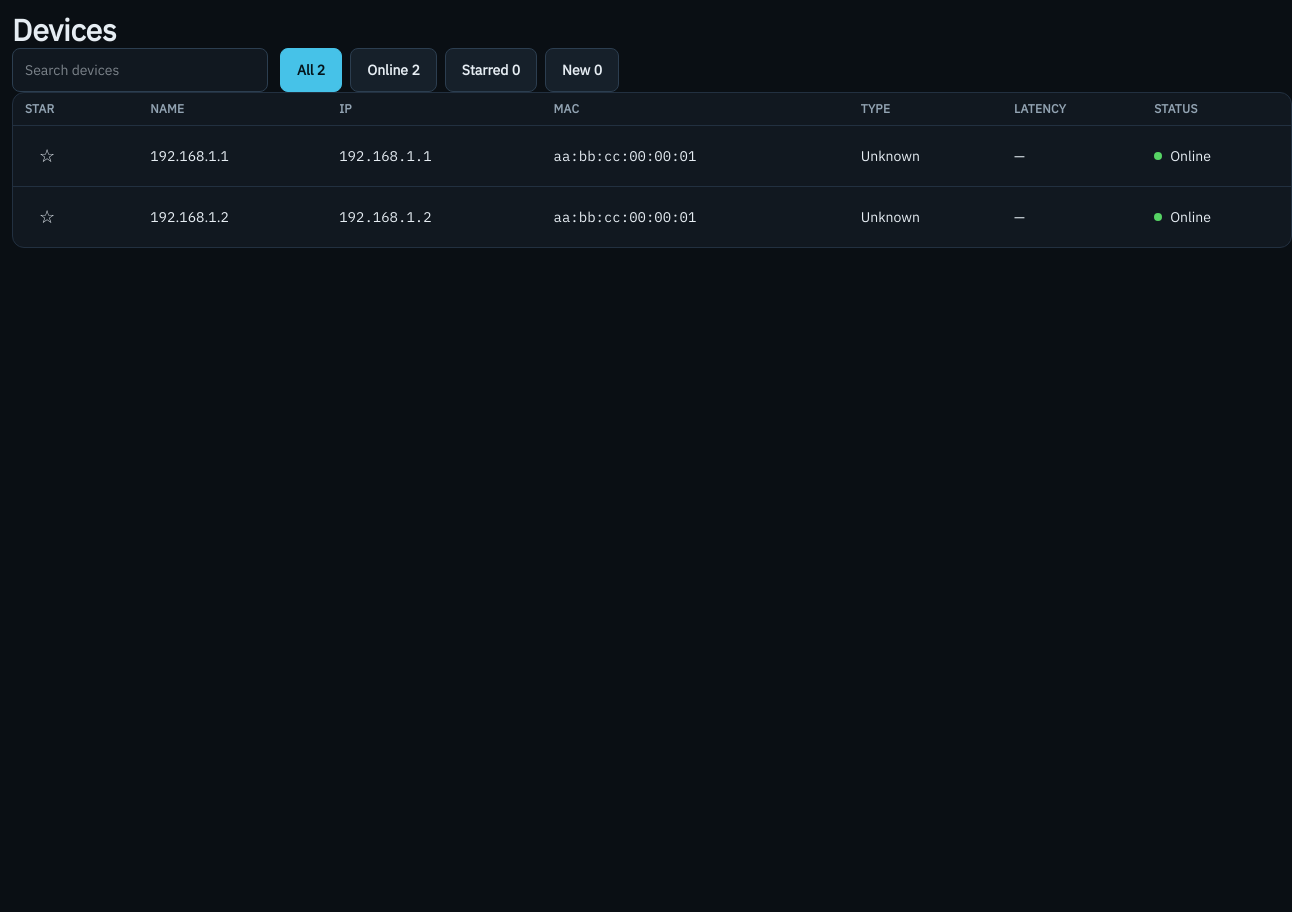
Test: Devices panel wiring › switching to another device starts with that device's own name field
// Visit both once so each is cached and switching shows it at once.
Click the button "192.168.1.1" at (190, 156), box [150,134,229,178]
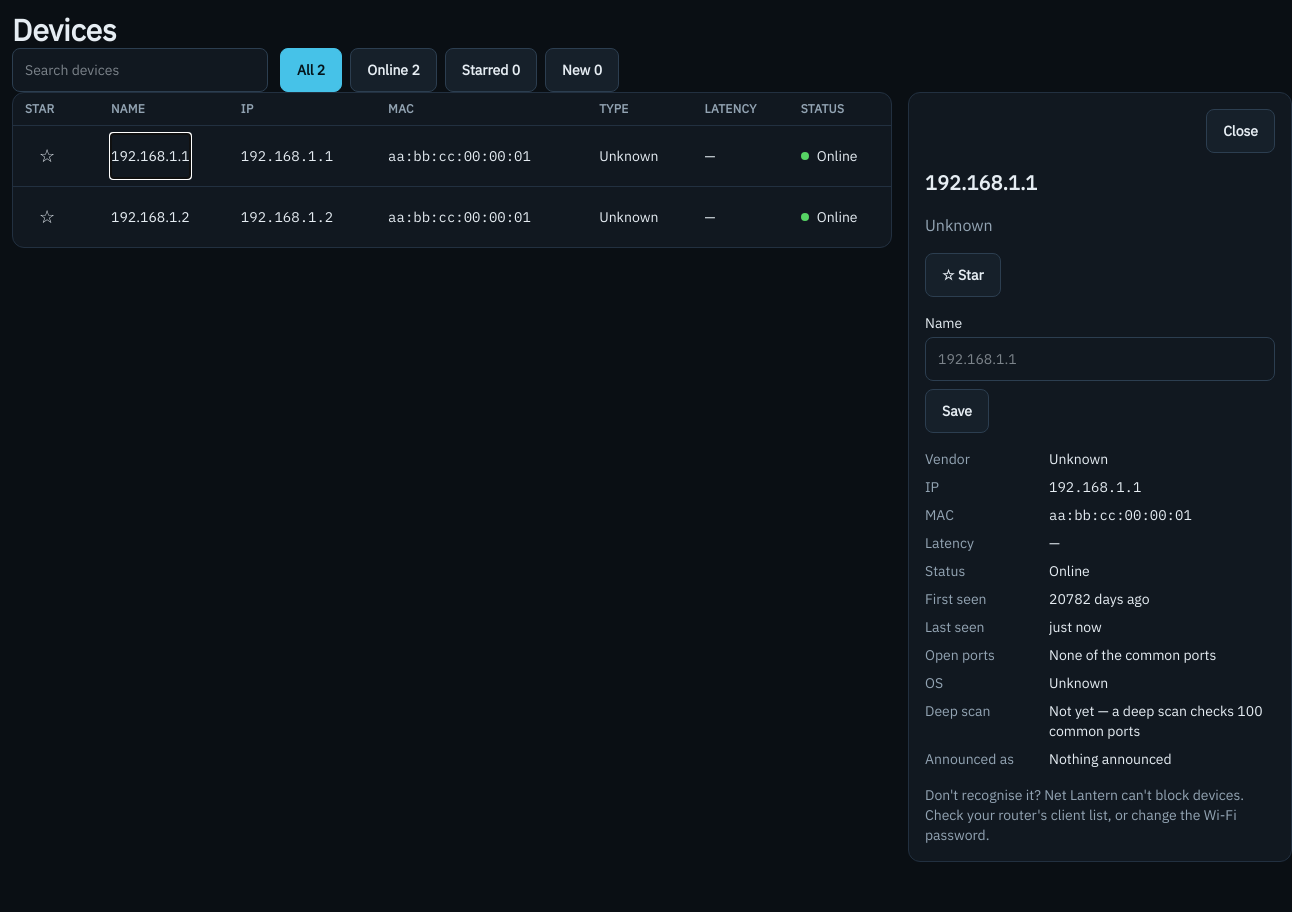
expect the heading "192.168.1.1" is shown: met, box [925,169,1037,197]
Click the button "192.168.1.2" at (150, 217), box [111,195,190,239]
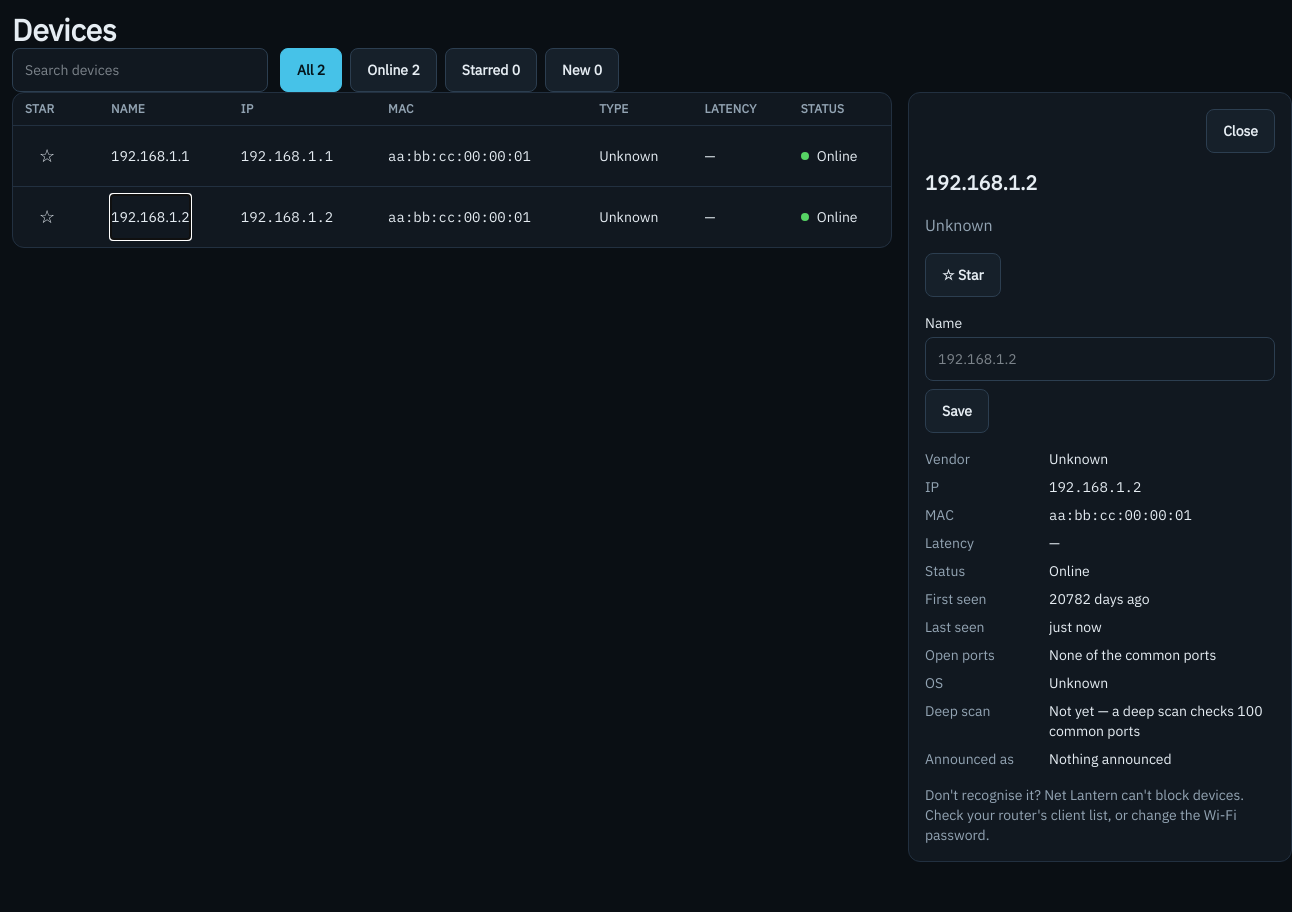
expect the heading "192.168.1.2" is shown: met, box [925,169,1037,197]
Click the button "192.168.1.1" at (150, 156), box [111,134,190,178]
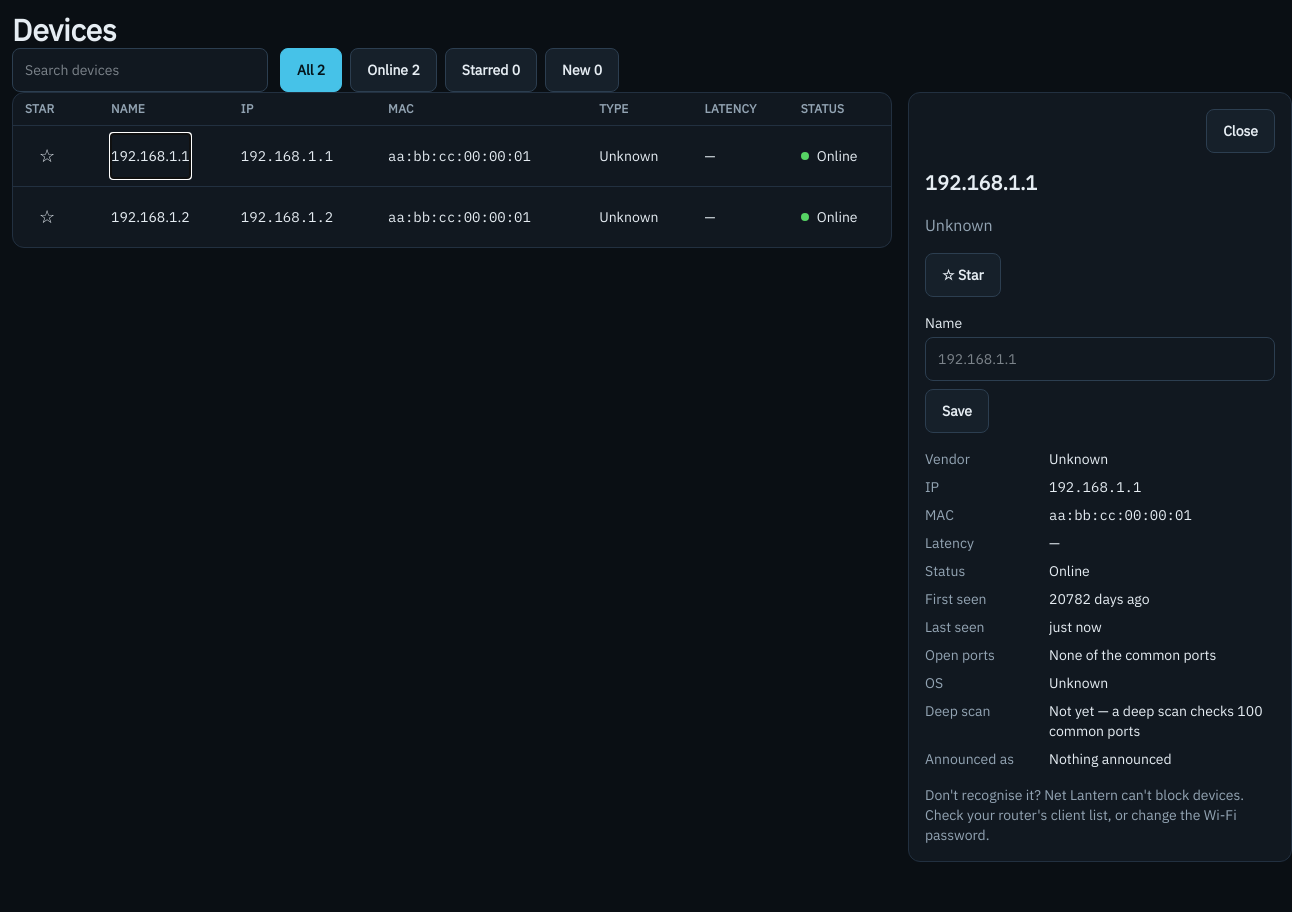
Type "abc" into the field labelled "Name" at (1100, 359), box [925,337,1275,381]
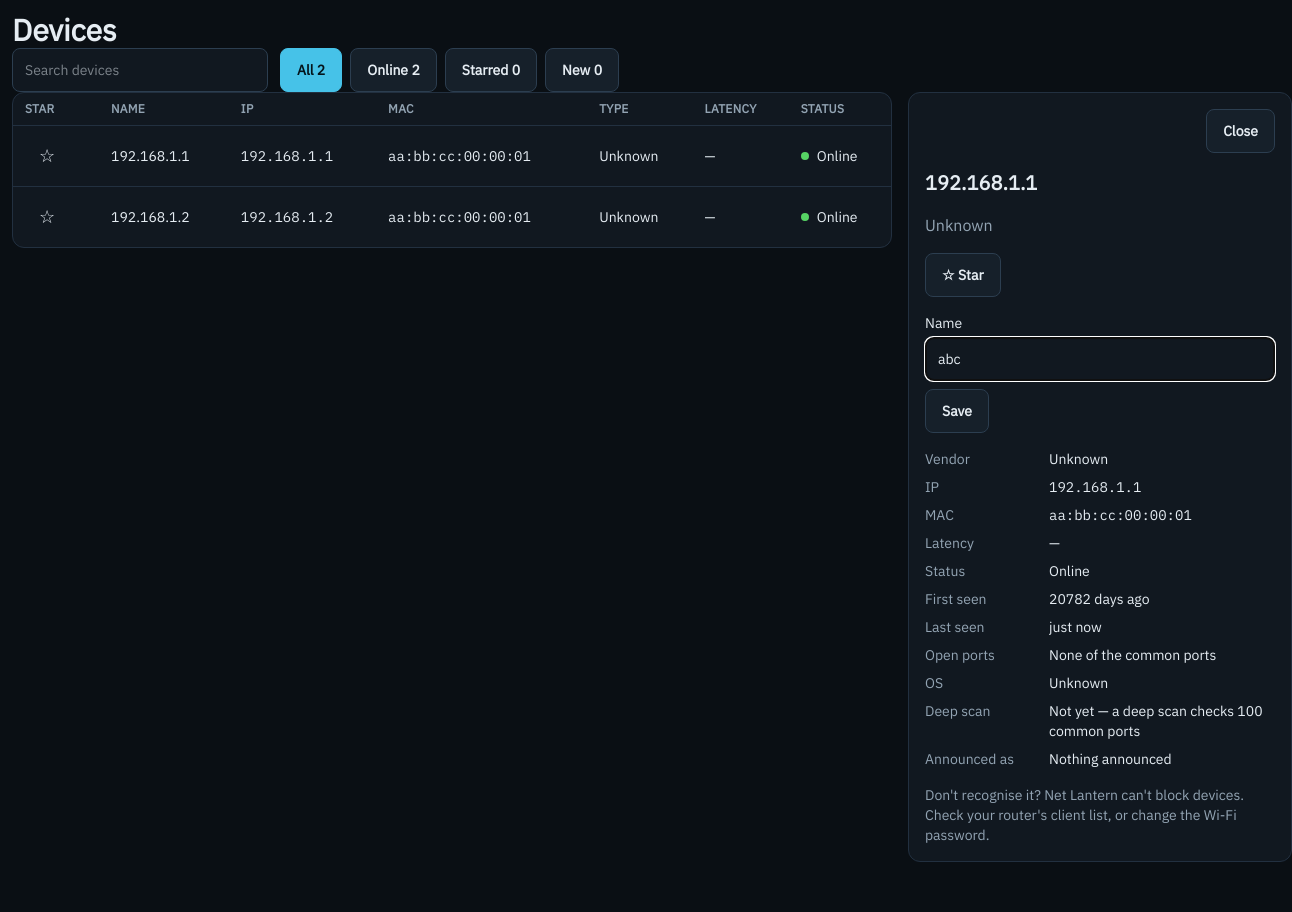
Click the button "192.168.1.2" at (150, 217), box [111,195,190,239]
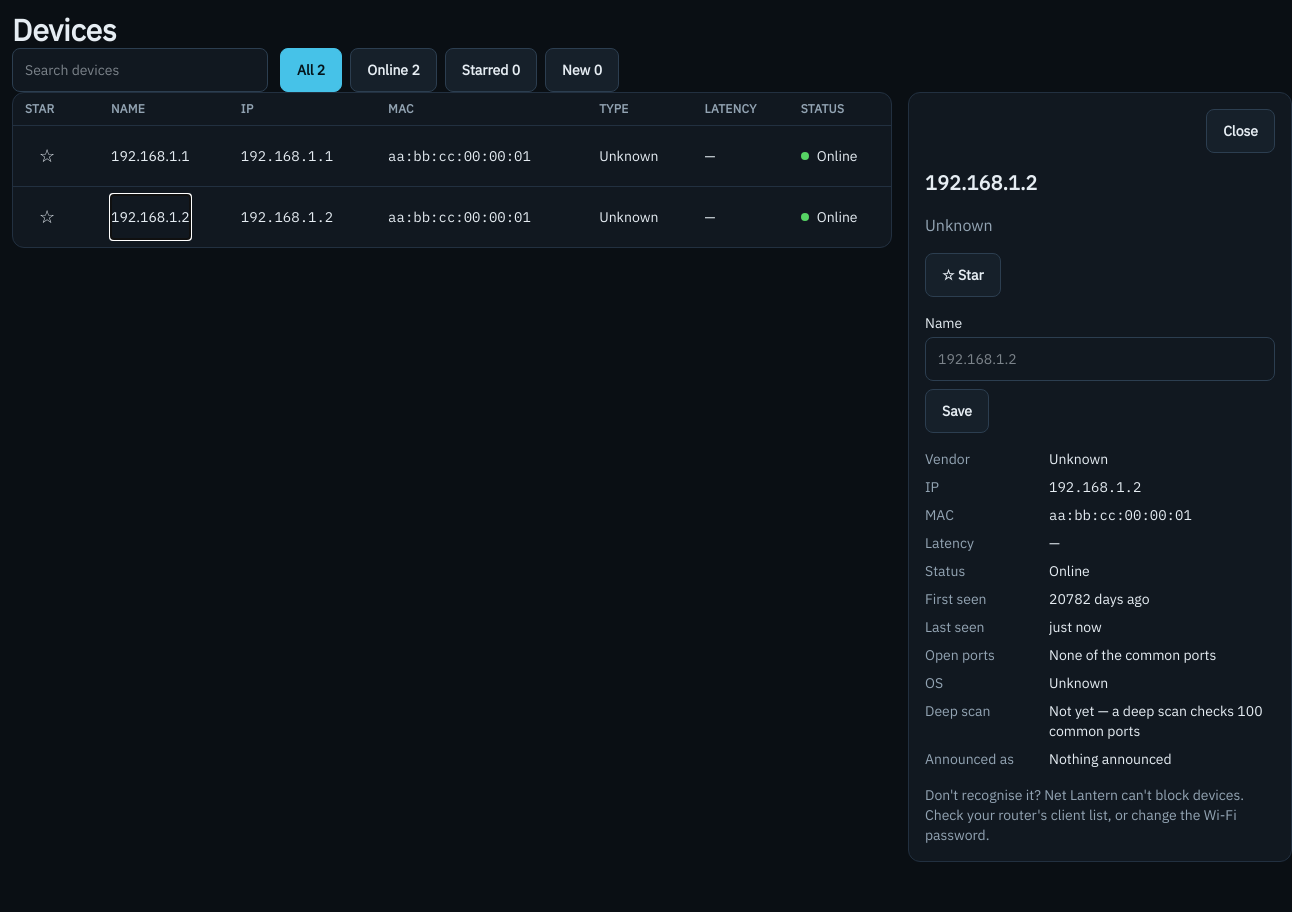
expect the heading "192.168.1.2" is shown: met, box [925,169,1037,197]
expect the field labelled "Name" is empty: met, box [925,337,1275,381]
